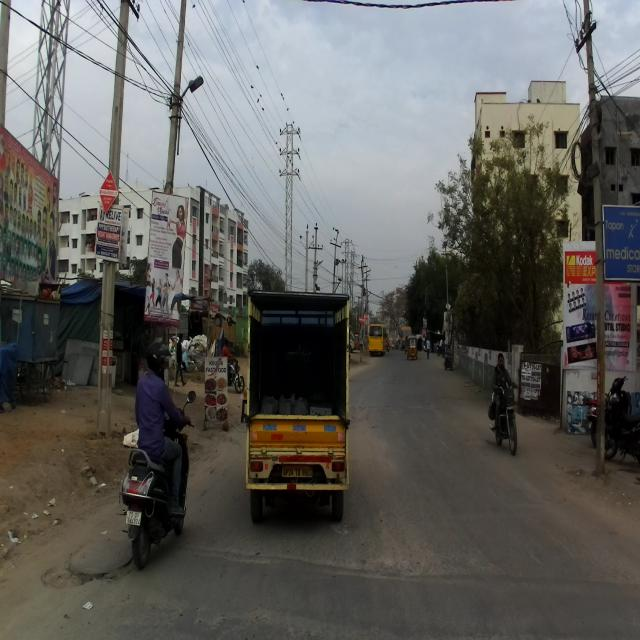electric pole ahead at: (570, 0, 614, 480), (87, 0, 139, 392)
motorcycle ahead at: (120, 437, 196, 565)
truck ahead at: (243, 283, 357, 519)
